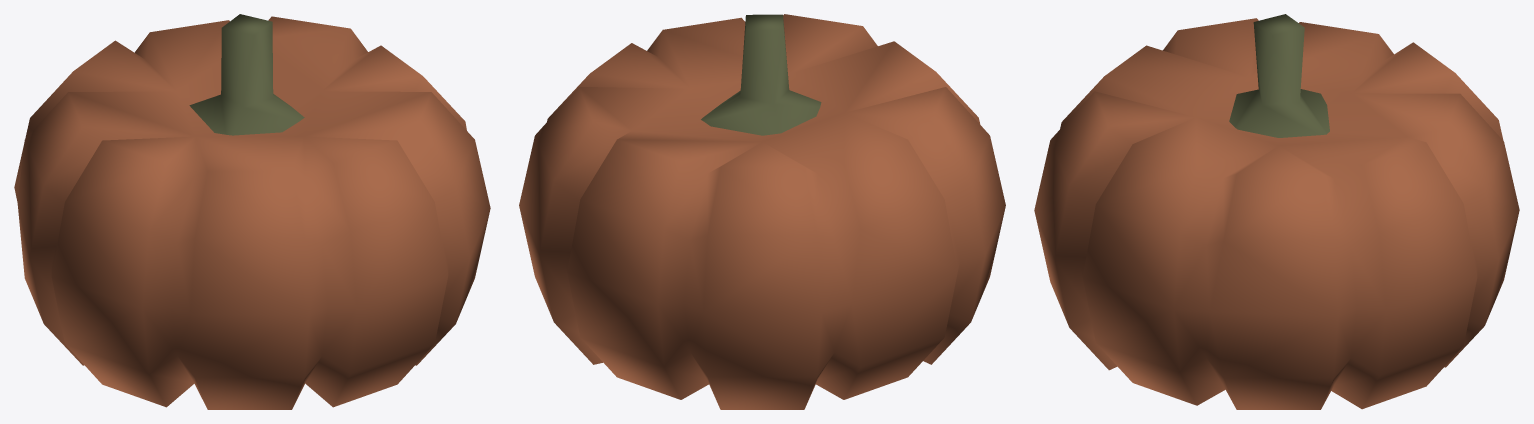
File: farm_pumpkin.glb
3 views of the same model, side by side, from view 1: azimuth 30°, elevation 25°; view 2: azimuth 150°, elevation 25°; view 3: azimuth 270°, elevation 25° (orthographic).
Parts seen in each view (by area): view 1: farm_pumpkin; view 2: farm_pumpkin; view 3: farm_pumpkin.
Part boxes in pixels (x1,y1,x2,y2): farm_pumpkin: [14, 14, 490, 409]; farm_pumpkin: [519, 14, 1005, 409]; farm_pumpkin: [1034, 14, 1519, 409].
Bounding box in the file's own units: 0.4421 × 0.3215 × 0.4508.
Materials: 1 (1 with a texture image).
